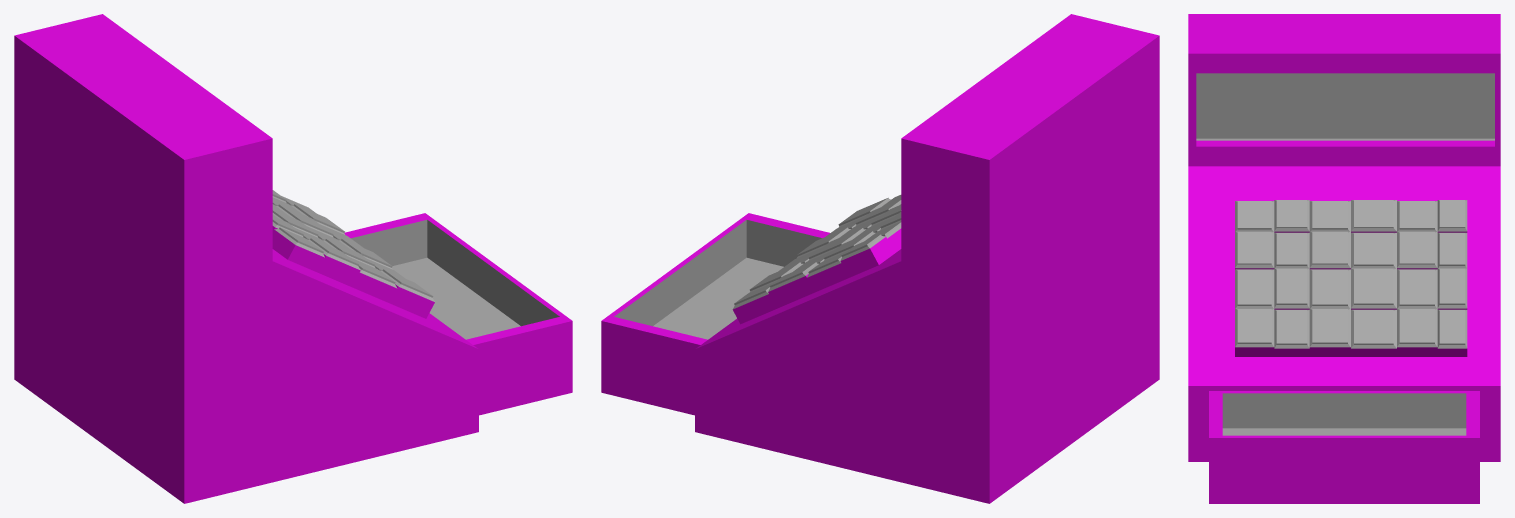
File: cash register.fbx
3 views of the same model, side by side, from view 1: azimuth 30°, elevation 25°; view 2: azimuth 150°, elevation 25°; view 3: azimuth 270°, elevation 25° (orthographic). The views are drawn at different scales.
Parts seen in each view (by area): view 1: pCube1; view 2: pCube1; view 3: pCube1.
Boxes of the visible parts, x1,y1,x2,y2 form: pCube1: (14, 14, 572, 503); pCube1: (601, 14, 1159, 503); pCube1: (1188, 14, 1500, 503).
Bounding box in the file's own units: 16.69 × 13.73 × 12.31.
